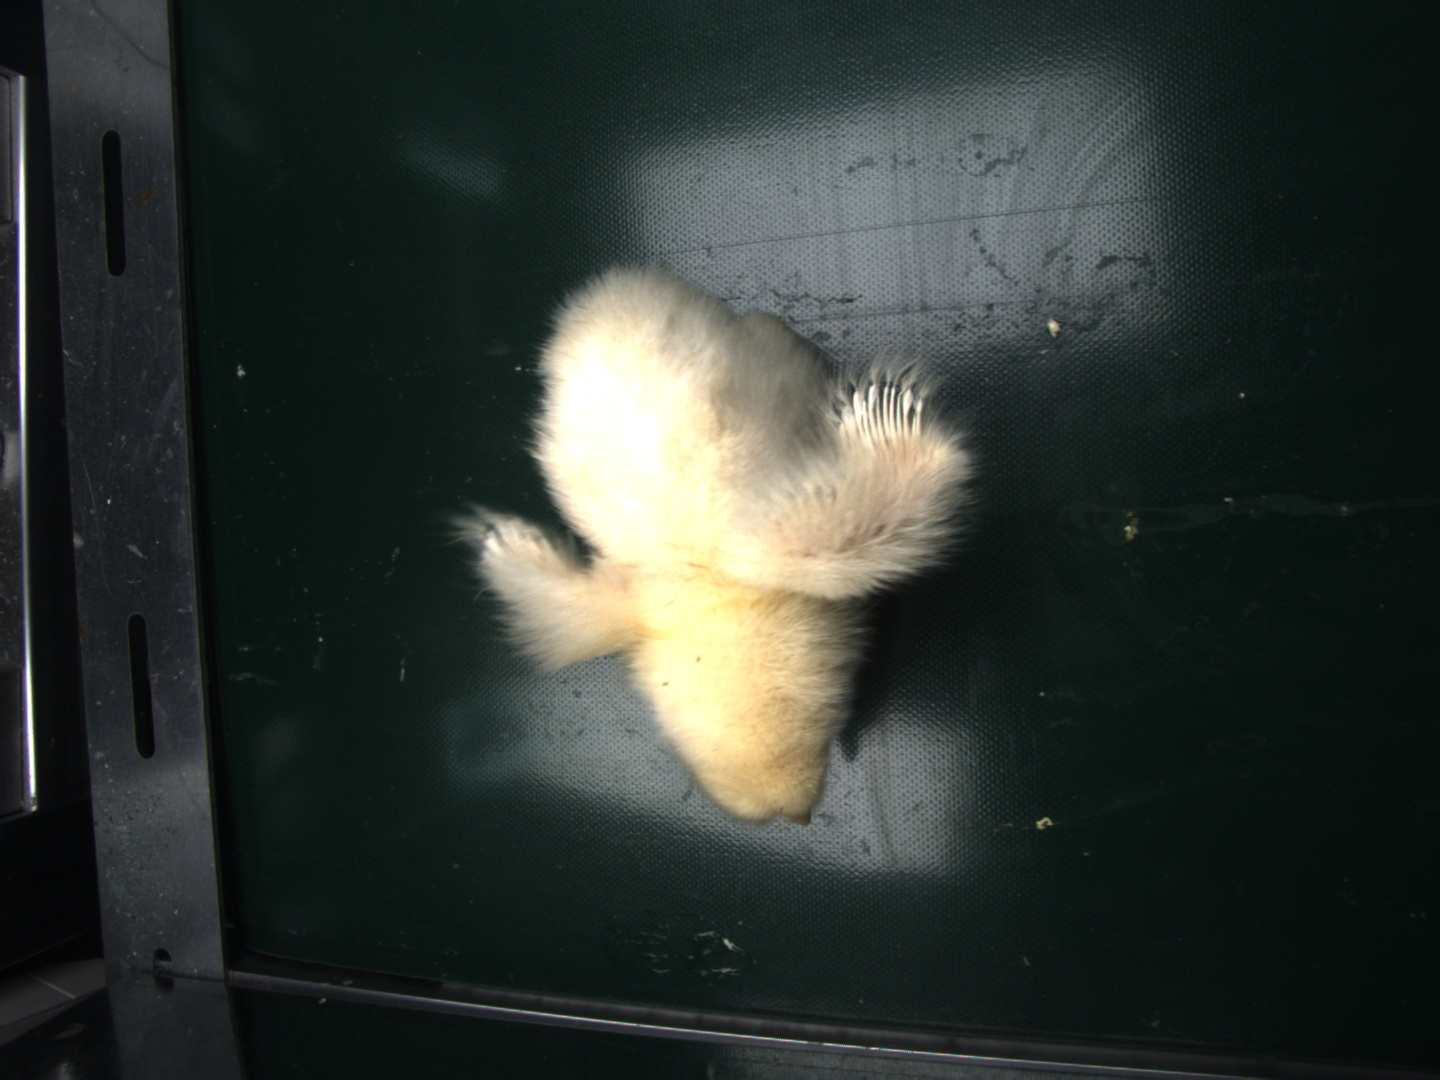male: (842, 380, 937, 448)
